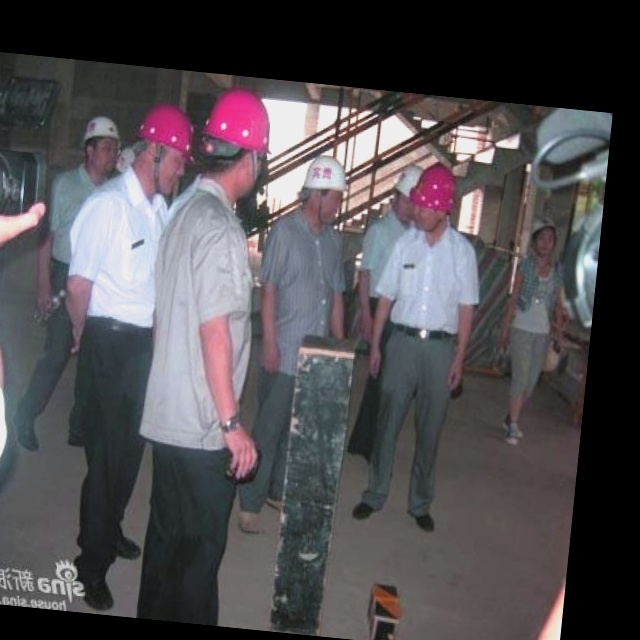Con_Casco: (198, 85, 278, 190), (406, 160, 463, 230)
Sin_Chaleco: (142, 190, 264, 441), (385, 225, 480, 345), (259, 210, 348, 337)
